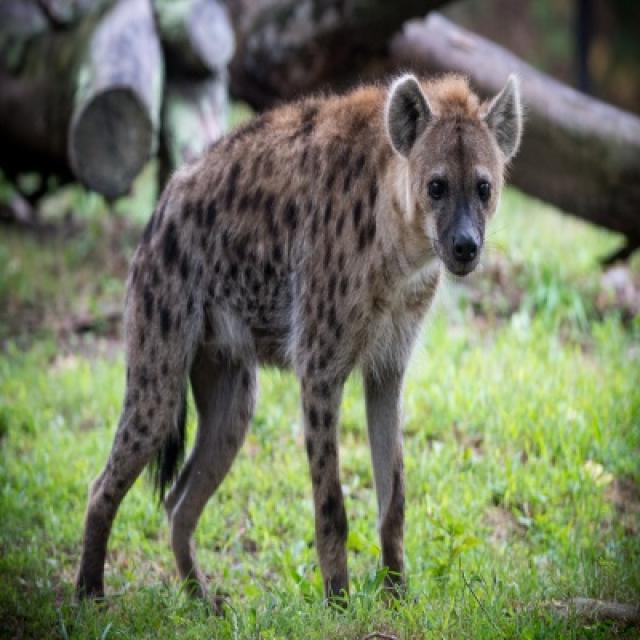hyena: (77, 72, 520, 595)
